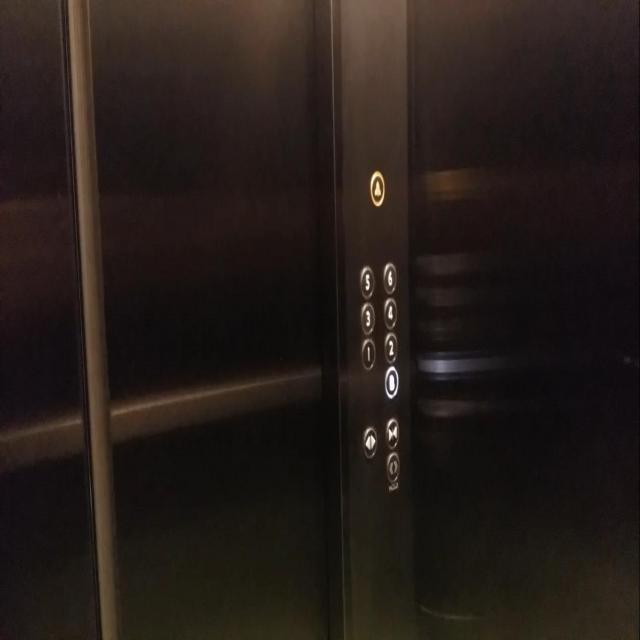1: (360, 337, 375, 371)
2: (383, 332, 398, 364)
3: (359, 301, 375, 334)
4: (383, 296, 397, 331)
5: (359, 264, 374, 298)
6: (382, 261, 397, 296)
alarm: (369, 169, 385, 206)
blur: (383, 364, 398, 400)
close: (384, 417, 400, 450)
open: (362, 425, 378, 460), (384, 451, 400, 482)
